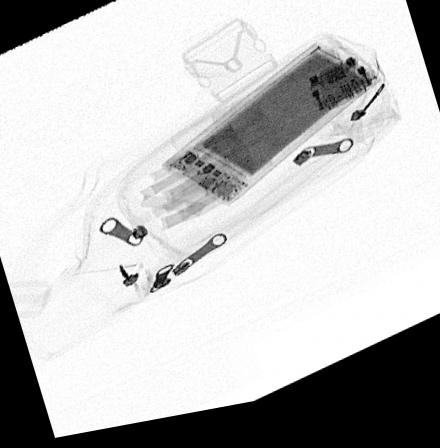Powerbank: (164, 53, 382, 214)
